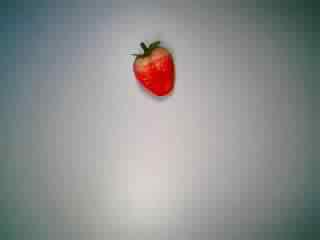strawberry: (121, 38, 189, 102)
